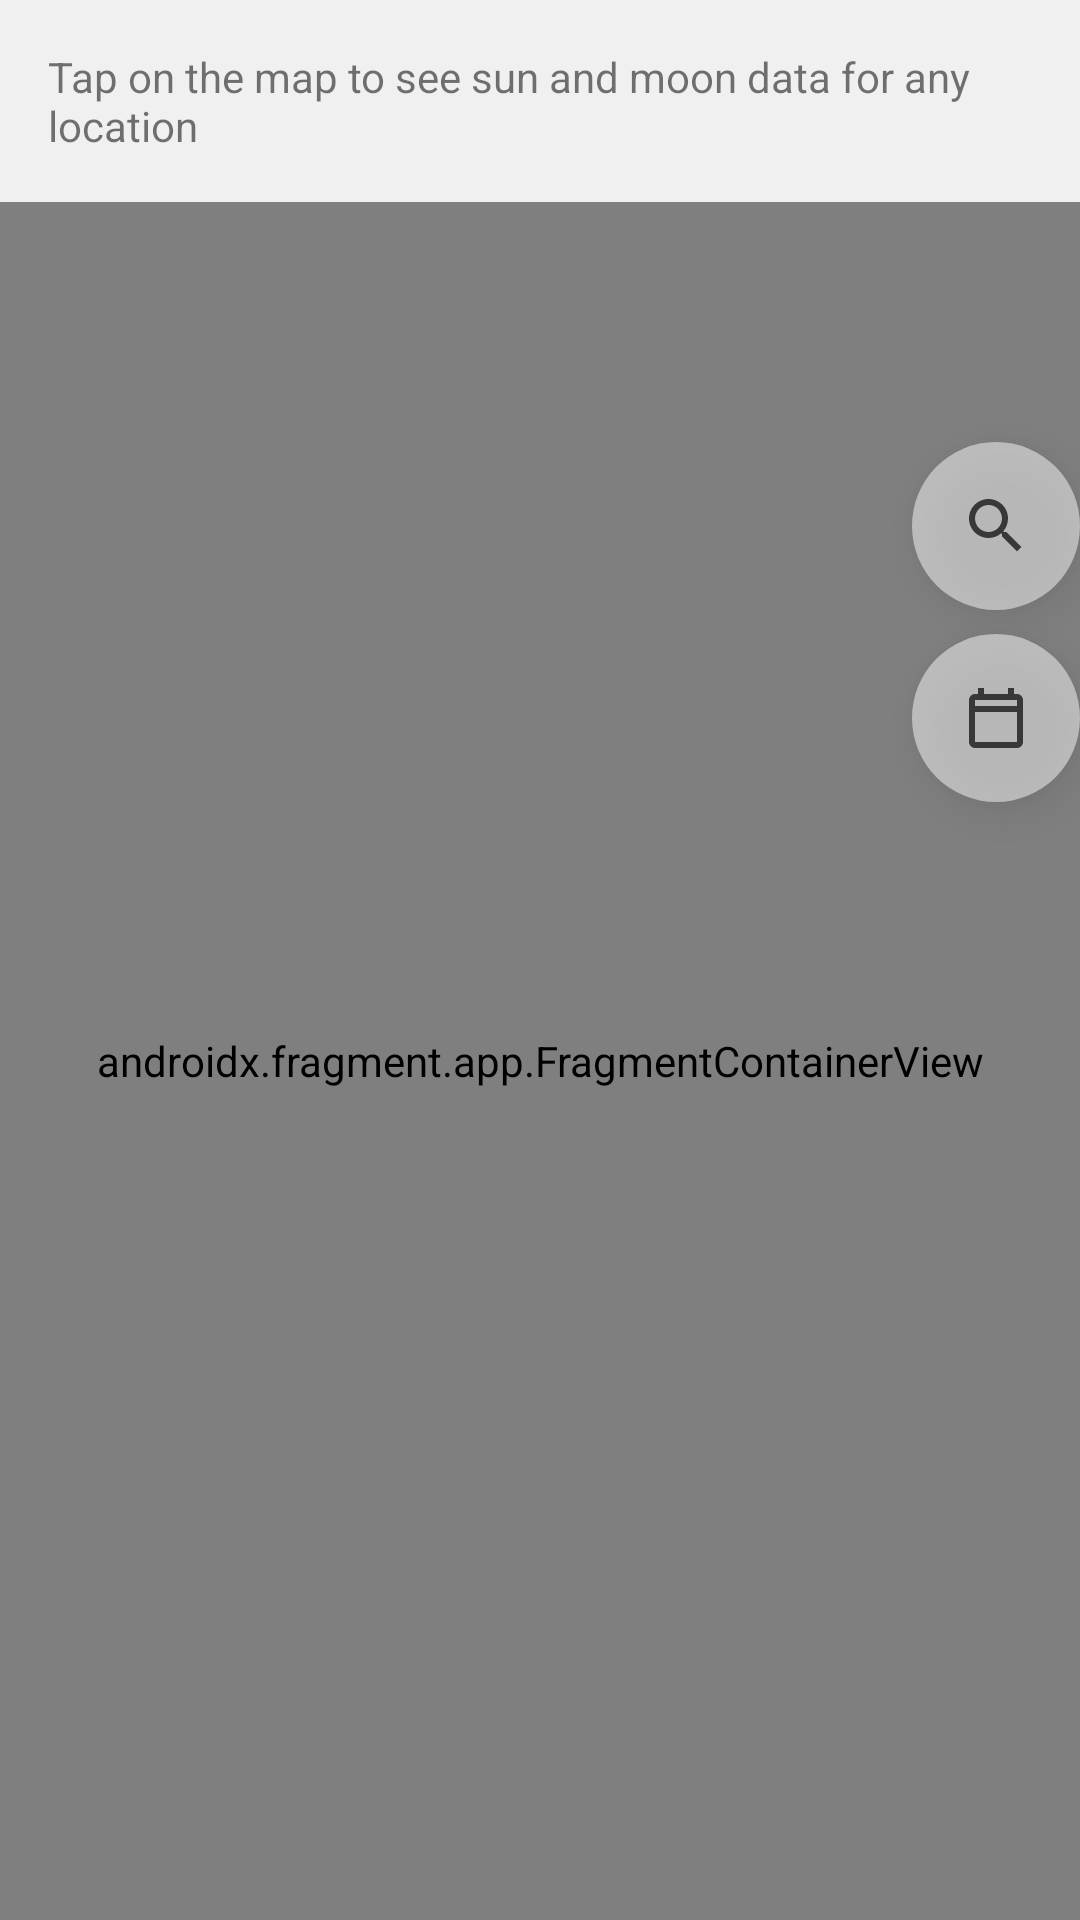

Icons on this 1080px×1920px Android screen, each with its box as (x1, y1, x2, y2):
Change date: (912, 634, 1080, 802)
Search icon: (912, 442, 1080, 610)
